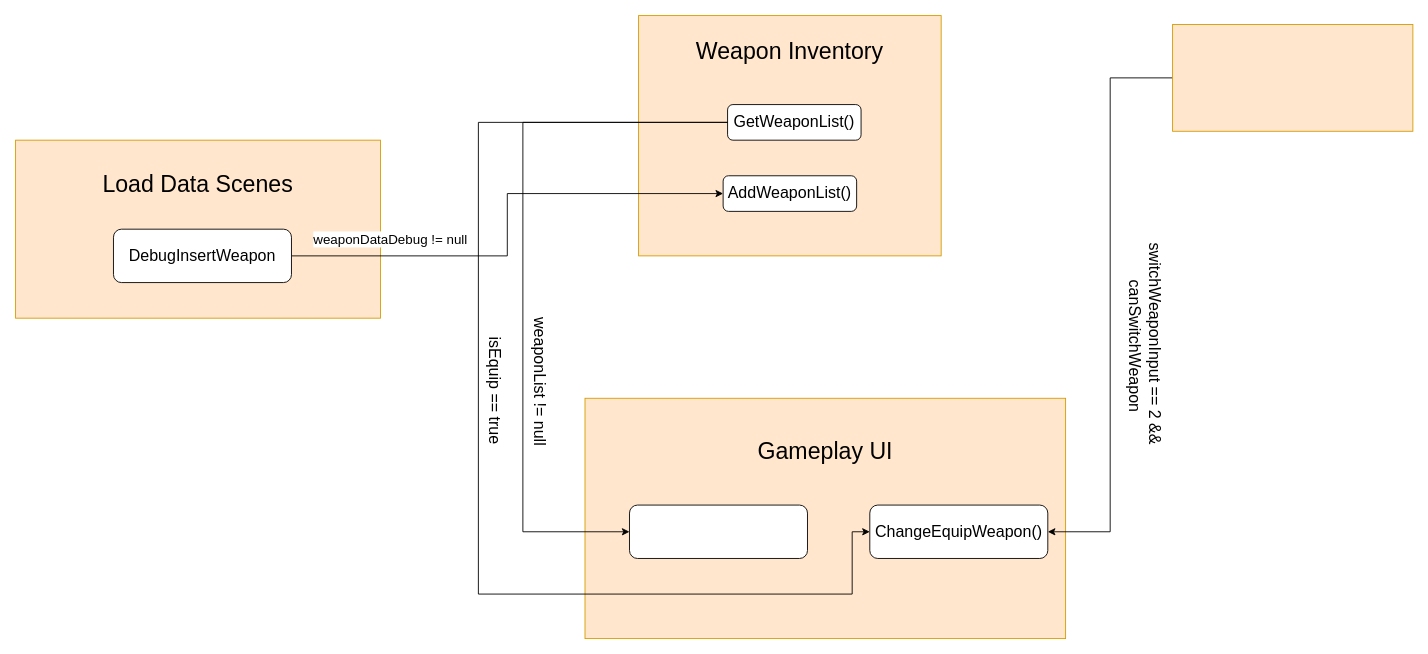
This 1428x654 diagram has some shape labels left out. The box of each missing label's shape, as (x1, y1, x2, y2) in pixels:
Ground State: (1172, 24, 1413, 131)
WeaponIconSpawn(): (629, 504, 807, 558)
